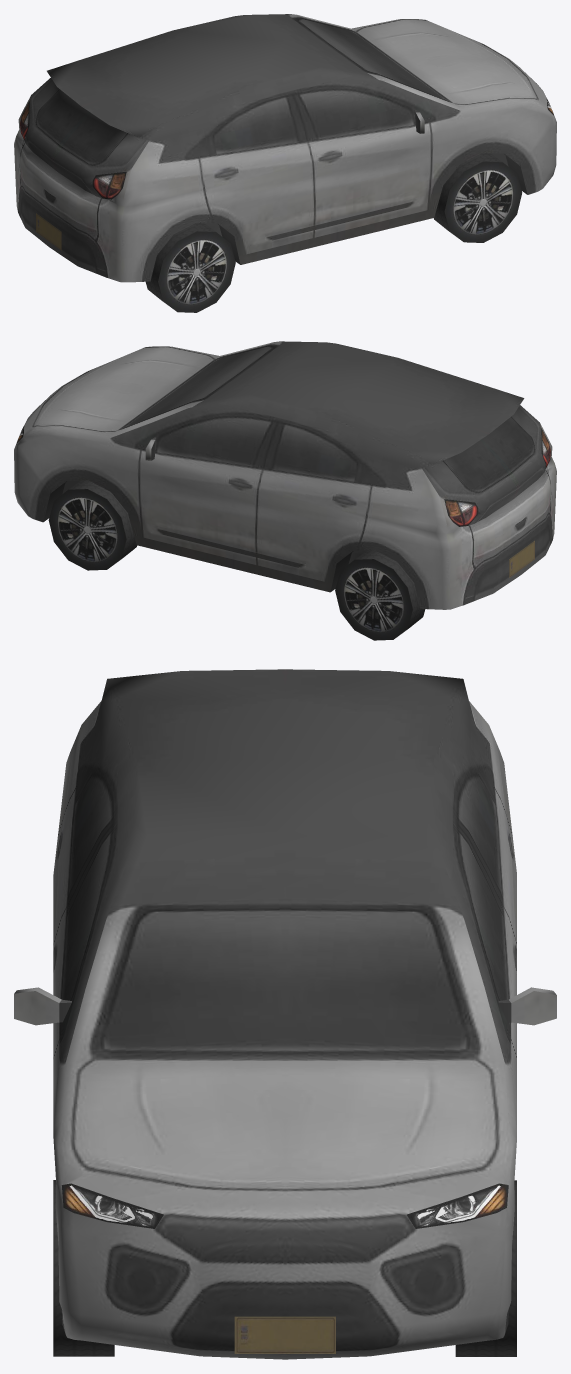
The model's file is sf_suv_04.glb.
3 renders of one model, top to bottom at view 1: azimuth 30°, elevation 25°; view 2: azimuth 150°, elevation 25°; view 3: azimuth 270°, elevation 25°, orthographic. The views are drawn at different scales.
Visible parts, largest first — view 1: Traffic_SUV_04_Body, Traffic_SUV_04_Wheel_Front_R_Traffic_Vehicle_Wheels_01_11_0, Traffic_SUV_04_Wheel_Back_R_Traffic_Vehicle_Wheels_01_11_0, Traffic_SUV_04_Light_Break; view 2: Traffic_SUV_04_Body, Traffic_SUV_04_Wheel_Back_L_Traffic_Vehicle_Wheels_01_11_0, Traffic_SUV_04_Wheel_Front_L_Traffic_Vehicle_Wheels_01_11_0, Traffic_SUV_04_Light_Break; view 3: Traffic_SUV_04_Body, Traffic_SUV_04_Light, Traffic_SUV_04_Wheel_Front_R_Traffic_Vehicle_Wheels_01_11_0, Traffic_SUV_04_Wheel_Front_L_Traffic_Vehicle_Wheels_01_11_0.
Boxes of the visible parts, <box> form: Traffic_SUV_04_Body: <box>14,14,556,282</box>; Traffic_SUV_04_Wheel_Front_R_Traffic_Vehicle_Wheels_01_11_0: <box>434,153,522,242</box>; Traffic_SUV_04_Wheel_Back_R_Traffic_Vehicle_Wheels_01_11_0: <box>145,223,235,312</box>; Traffic_SUV_04_Light_Break: <box>20,116,122,199</box>; Traffic_SUV_04_Body: <box>14,341,556,609</box>; Traffic_SUV_04_Wheel_Back_L_Traffic_Vehicle_Wheels_01_11_0: <box>335,550,425,640</box>; Traffic_SUV_04_Wheel_Front_L_Traffic_Vehicle_Wheels_01_11_0: <box>48,480,137,570</box>; Traffic_SUV_04_Light_Break: <box>448,444,550,526</box>; Traffic_SUV_04_Body: <box>14,669,556,1359</box>; Traffic_SUV_04_Light: <box>68,1183,501,1228</box>; Traffic_SUV_04_Wheel_Front_R_Traffic_Vehicle_Wheels_01_11_0: <box>53,1180,114,1356</box>; Traffic_SUV_04_Wheel_Front_L_Traffic_Vehicle_Wheels_01_11_0: <box>455,1180,516,1356</box>.
Size of the model in its own units: 4.2 by 1.64 by 2.11.
3 materials, 3 textured.
